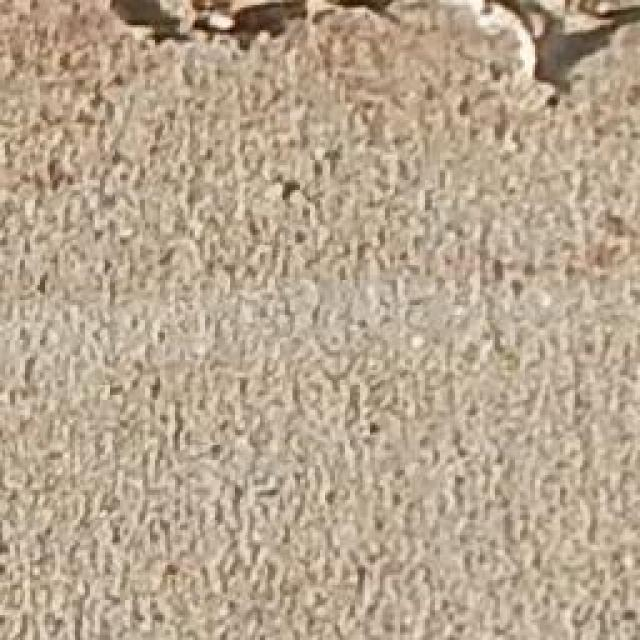concrete-crack: (102, 0, 433, 58), (492, 0, 640, 100)
